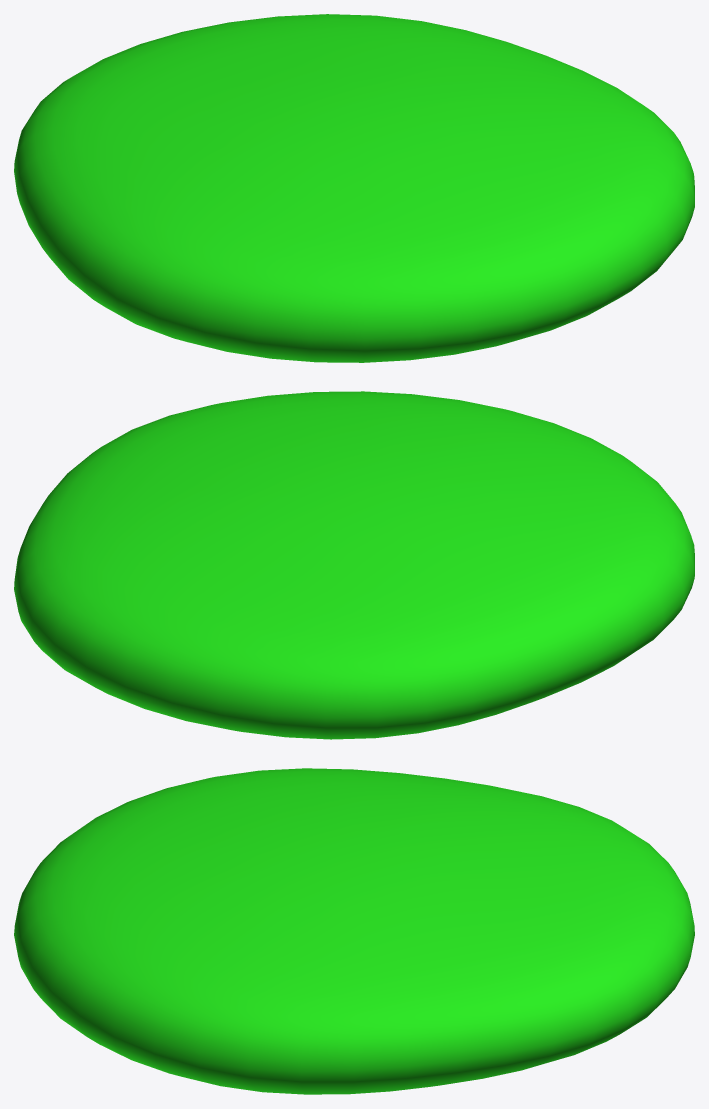
File: Spider43.glb
3 renders of one model, top to bottom at view 1: azimuth 30°, elevation 25°; view 2: azimuth 150°, elevation 25°; view 3: azimuth 270°, elevation 25°, orthographic. The views are drawn at different scales.
Parts seen in each view (by area): view 1: Butt; view 2: Butt; view 3: Butt.
Part boxes in pixels (box(x1,y1,x2,y2)): Butt: box(14, 14, 694, 362); Butt: box(14, 391, 694, 739); Butt: box(14, 768, 694, 1094).
Size of the model in its own units: 0.2459 by 0.0733 by 0.2583.
